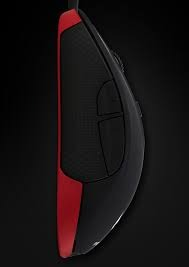mouse: (50, 2, 148, 259)
